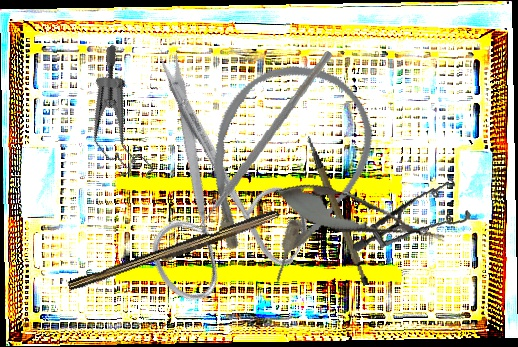Cannula: (174, 43, 392, 298)
Chopper: (178, 39, 334, 242)
Iris Scissors: (55, 43, 356, 339)
Micro Scissor: (267, 171, 453, 260)
Scalpel Handle: (66, 205, 283, 298), (306, 130, 372, 291)
Speculum: (51, 42, 193, 195), (352, 163, 476, 269)
